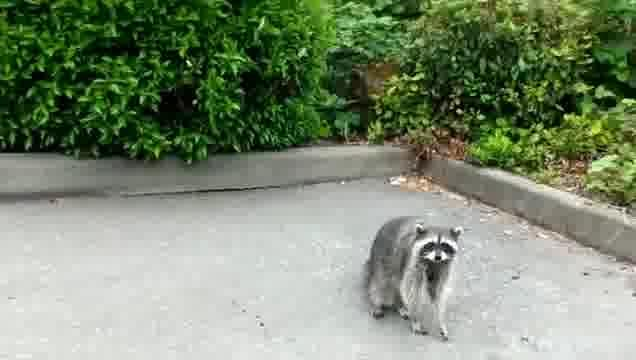raccoon: (358, 216, 472, 344)
